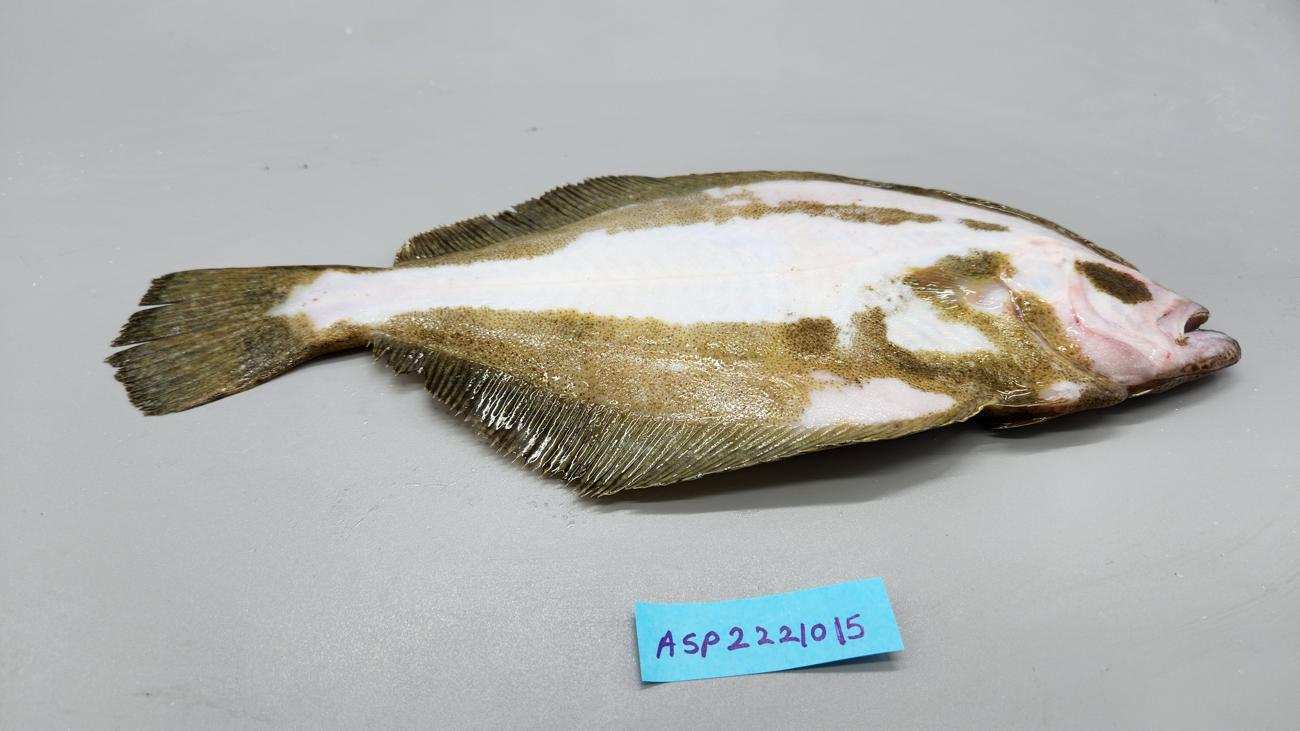SPDYH: (768, 315, 933, 419), (901, 252, 1000, 293), (734, 195, 831, 224)
SPOUY: (100, 162, 1250, 510)
